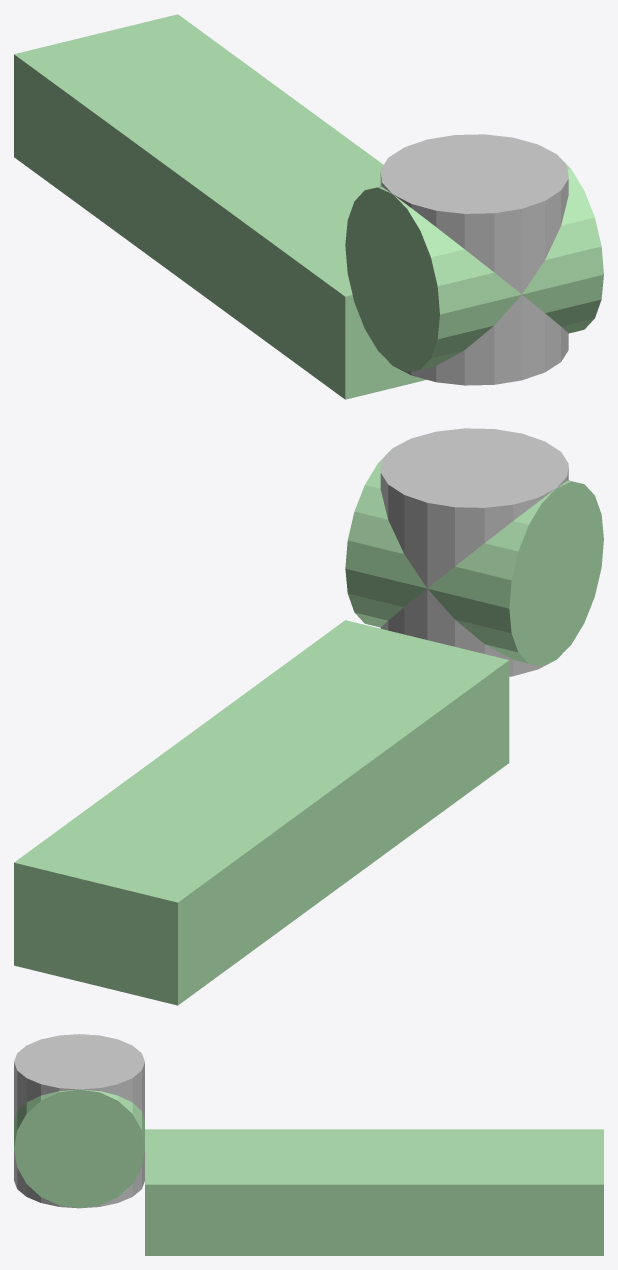
File: RARM_LINK6_mesh.dae
The picture shows the model from 3 angles, top to bottom: view 1: azimuth 30°, elevation 25°; view 2: azimuth 150°, elevation 25°; view 3: azimuth 270°, elevation 25°; orthographic projection. The views are drawn at different scales.
Visible parts, largest first — view 1: RARM_LINK6 (×3); view 2: RARM_LINK6 (×3); view 3: RARM_LINK6 (×3).
Boxes of the visible parts, bbox=[...] form: RARM_LINK6 (×3): bbox=[14, 14, 603, 399]; RARM_LINK6 (×3): bbox=[14, 428, 603, 1005]; RARM_LINK6 (×3): bbox=[14, 1034, 603, 1255].
Bounding box in the file's own units: 0.05 × 0.07 × 0.225.
